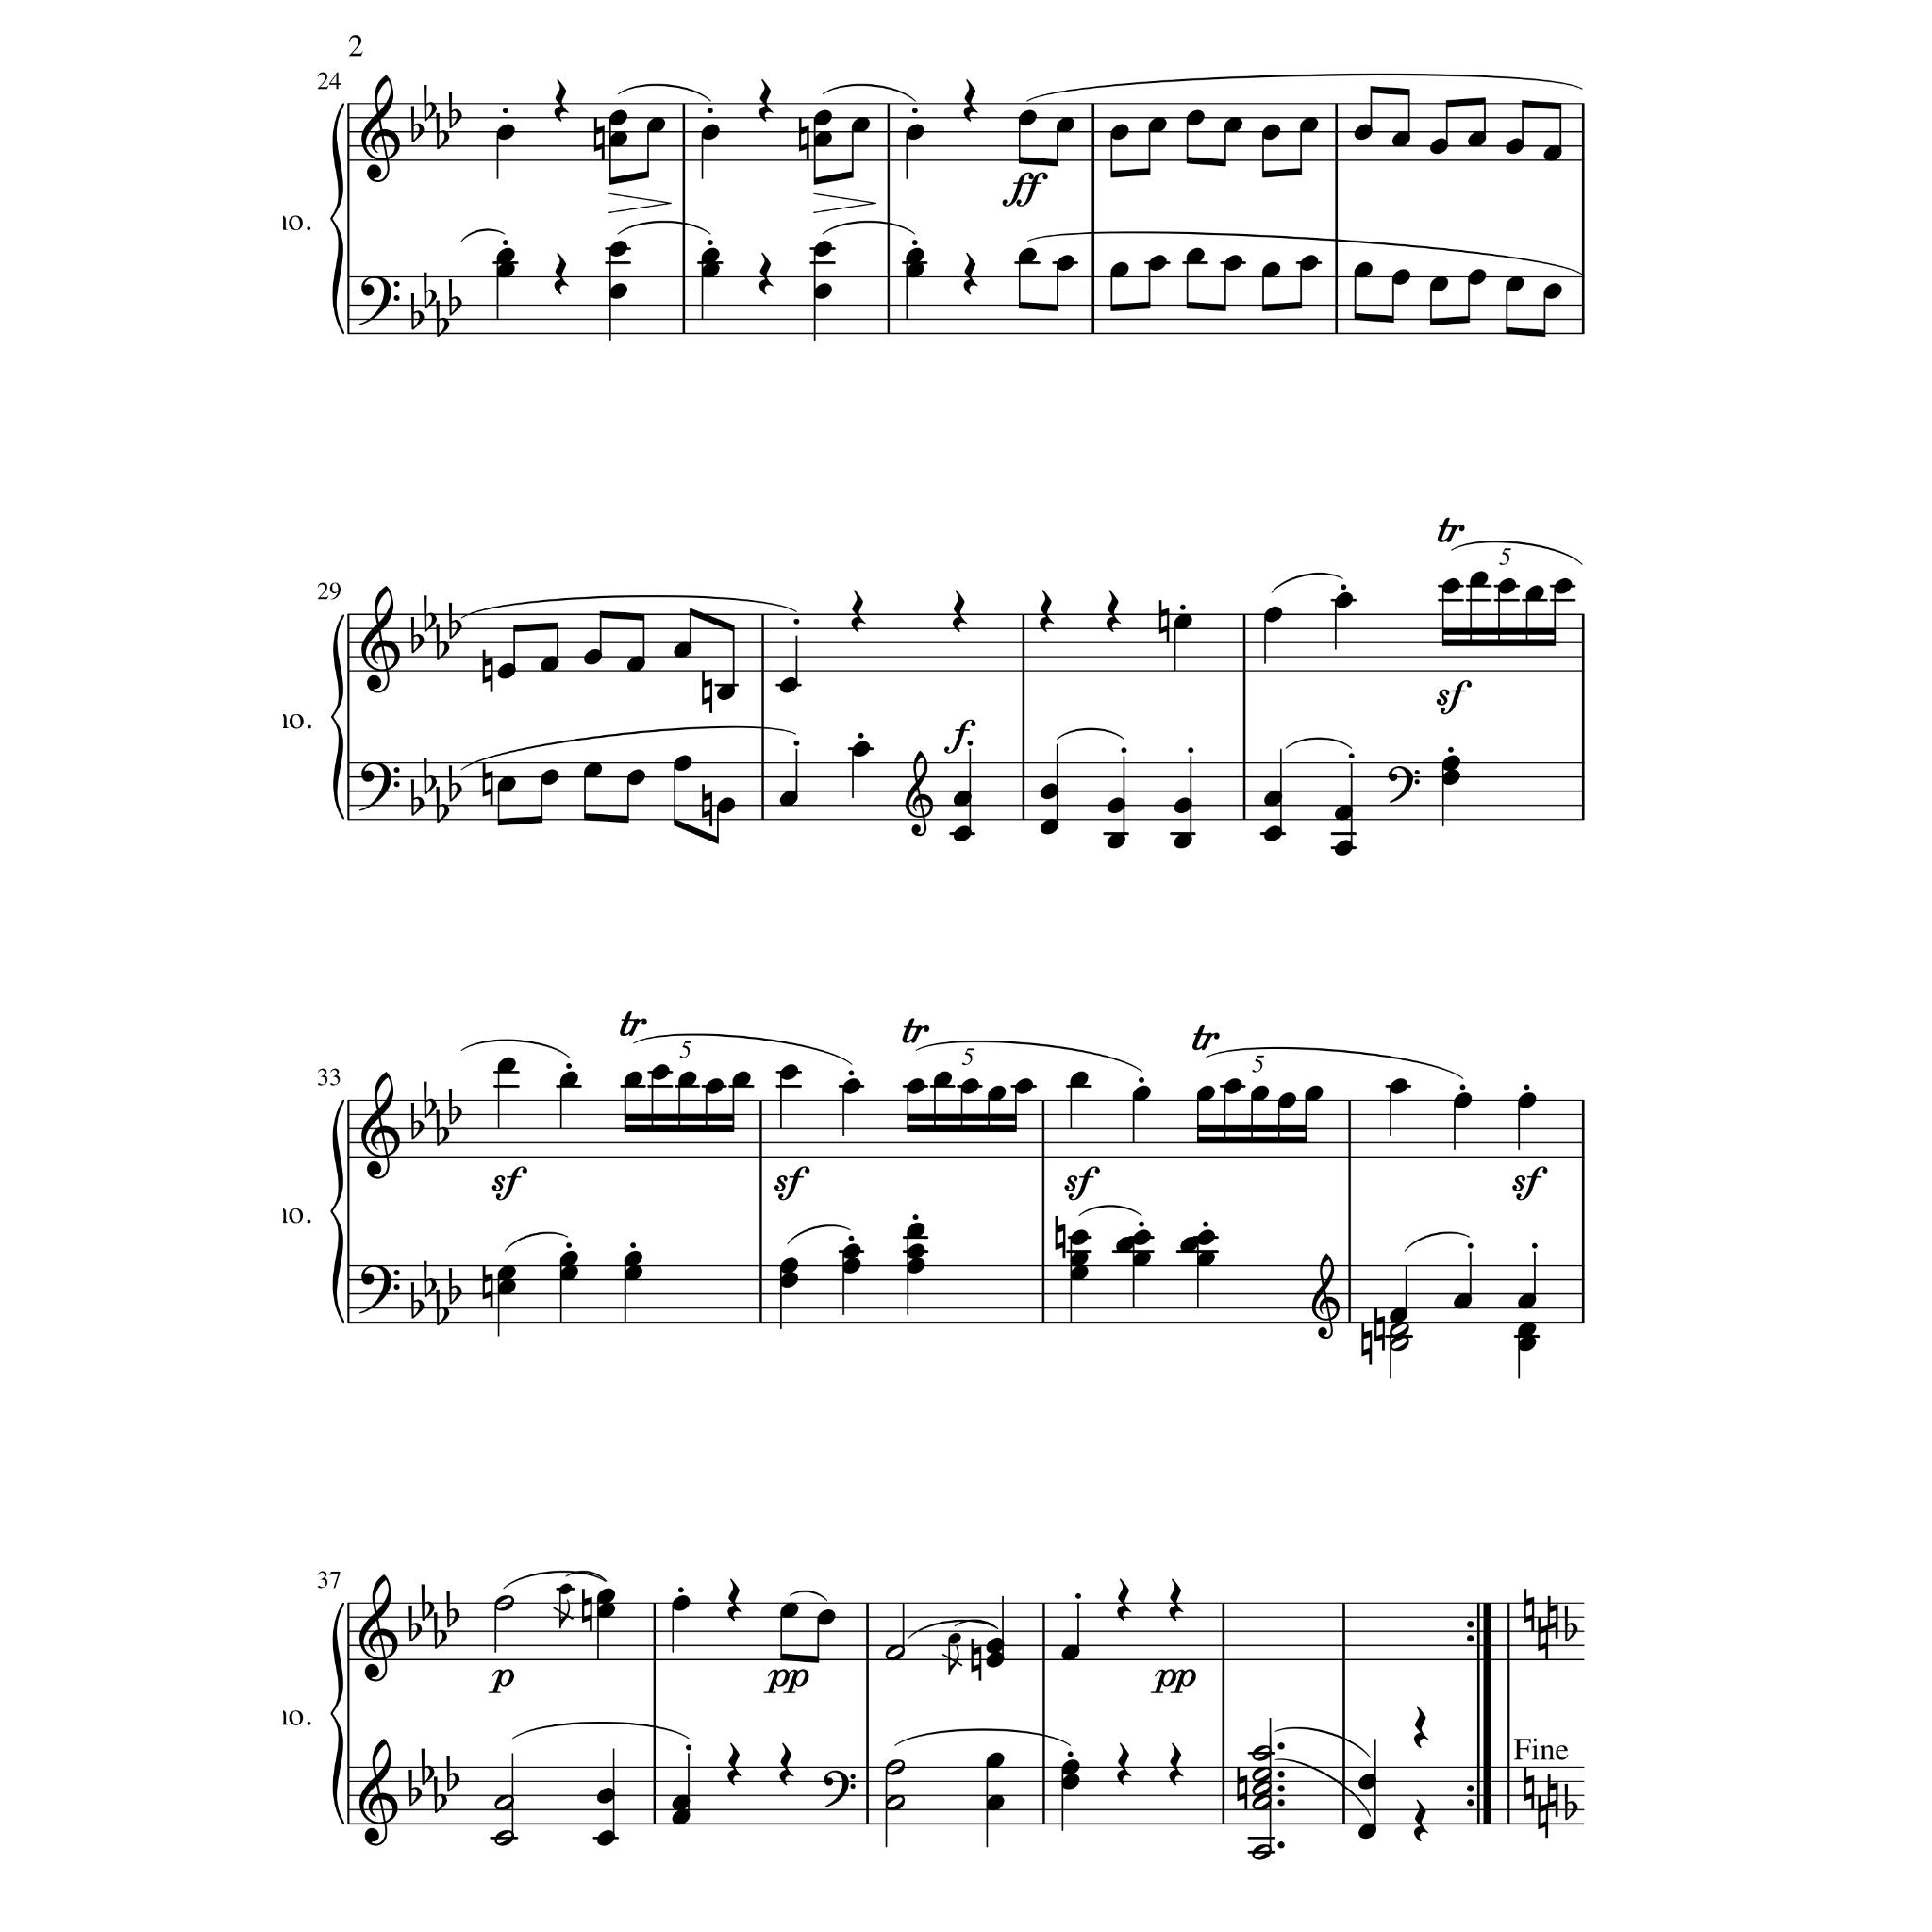brace: (329, 104, 345, 336), (329, 1099, 345, 1323), (329, 1603, 345, 1826), (331, 614, 345, 821)
fClef: (359, 276, 400, 326), (359, 763, 400, 812), (359, 1265, 400, 1315)
flag8thDown: (552, 1599, 575, 1637), (941, 1645, 962, 1684)
gClef: (359, 1737, 398, 1847), (361, 586, 400, 694), (361, 1072, 400, 1180), (359, 1575, 398, 1683), (361, 76, 400, 182)
noteheadBlack: (1069, 1228, 1090, 1247), (1196, 1228, 1215, 1247), (1132, 1228, 1152, 1247), (985, 1637, 1005, 1656), (1109, 262, 1131, 280), (1109, 124, 1131, 142), (1054, 255, 1076, 272), (1054, 117, 1076, 134), (812, 241, 833, 258), (812, 283, 833, 301), (812, 110, 833, 127), (812, 131, 833, 149), (1039, 817, 1060, 835), (1523, 584, 1545, 602), (1440, 755, 1461, 773), (1440, 768, 1461, 786), (672, 755, 694, 773), (1069, 1251, 1090, 1269), (1069, 1265, 1090, 1283), (1069, 1070, 1090, 1088), (731, 1070, 752, 1088), (840, 1077, 862, 1095), (671, 1794, 692, 1812), (671, 1808, 692, 1826), (1299, 255, 1318, 272), (1299, 117, 1318, 134), (1261, 262, 1281, 280), (1261, 124, 1281, 142), (1353, 262, 1373, 280), (1353, 124, 1373, 142), (1148, 255, 1168, 272), (1148, 117, 1168, 134), (1223, 255, 1242, 272), (1223, 117, 1242, 134), (1185, 248, 1205, 265), (1185, 110, 1205, 127), (1543, 283, 1562, 301), (1543, 145, 1562, 163), (1430, 276, 1449, 294), (1430, 138, 1449, 156), (1391, 269, 1410, 287), (1391, 131, 1410, 149), (1504, 276, 1523, 294), (1504, 138, 1523, 156), (1467, 269, 1486, 287), (1467, 131, 1486, 149), (701, 248, 720, 265), (701, 262, 720, 280), (701, 124, 720, 142), (646, 117, 665, 134), (609, 241, 628, 258), (609, 283, 628, 301), (609, 110, 628, 127), (609, 131, 628, 149), (495, 248, 515, 265), (495, 262, 515, 280), (495, 124, 515, 142), (1017, 248, 1037, 265), (1017, 110, 1037, 127), (851, 117, 870, 134), (906, 248, 925, 265), (906, 262, 925, 280), (906, 124, 925, 142), (1334, 805, 1353, 823), (1468, 571, 1488, 589), (540, 768, 559, 786), (626, 768, 646, 786), (1249, 1085, 1269, 1102), (1223, 1077, 1242, 1095), (1178, 1237, 1198, 1254), (1196, 1251, 1215, 1269), (1389, 1306, 1408, 1323), (1389, 1077, 1408, 1095), (1304, 1085, 1323, 1102), (1196, 1085, 1215, 1102), (1277, 1092, 1297, 1109), (1116, 1237, 1136, 1254), (1132, 1251, 1152, 1269), (1132, 1085, 1152, 1102), (1516, 1320, 1536, 1338), (1516, 1336, 1536, 1353), (1516, 1292, 1536, 1309), (1453, 1292, 1472, 1309), (1516, 1092, 1536, 1109), (1453, 1092, 1472, 1109), (651, 1063, 671, 1081), (623, 1251, 642, 1269), (623, 1265, 642, 1283), (623, 1070, 642, 1088), (778, 1063, 798, 1081), (704, 1077, 724, 1095), (678, 1070, 697, 1088), (559, 1251, 579, 1269), (559, 1265, 579, 1283), (559, 1070, 579, 1088), (497, 1265, 517, 1283), (497, 1279, 517, 1297), (497, 1056, 517, 1074), (906, 1221, 925, 1238), (906, 1077, 925, 1095), (987, 1085, 1007, 1102), (961, 1077, 980, 1095), (932, 1070, 952, 1088), (1014, 1077, 1033, 1095), (1062, 1759, 1081, 1776), (1357, 1773, 1376, 1790), (1357, 1822, 1376, 1840), (596, 1787, 616, 1805), (596, 1587, 616, 1605), (596, 1601, 616, 1619), (1062, 1773, 1081, 1790), (1062, 1644, 1081, 1661), (985, 1752, 1005, 1769), (985, 1794, 1005, 1812), (985, 1651, 1005, 1668), (780, 1601, 800, 1619), (1039, 784, 1060, 800), (1440, 579, 1461, 594), (672, 642, 694, 658), (715, 798, 736, 814), (715, 685, 736, 701), (840, 1244, 862, 1260), (840, 1258, 862, 1274), (671, 1596, 692, 1612), (1263, 826, 1283, 842), (1263, 607, 1283, 623), (1173, 798, 1192, 814), (1173, 833, 1192, 849), (1263, 791, 1283, 807), (1173, 614, 1192, 630), (1106, 798, 1125, 814), (1106, 833, 1125, 849), (1334, 840, 1353, 856), (1334, 593, 1353, 609), (1497, 579, 1516, 594), (584, 763, 603, 778), (584, 649, 603, 665), (540, 656, 559, 672), (626, 656, 646, 672), (497, 777, 517, 793), (497, 663, 517, 679), (851, 741, 870, 757), (952, 791, 971, 807), (952, 826, 971, 842), (778, 678, 798, 694), (778, 791, 798, 807), (906, 1244, 925, 1260), (906, 1258, 925, 1274), (778, 1258, 798, 1274), (778, 1272, 798, 1288), (596, 1829, 616, 1845), (816, 1610, 835, 1626), (1553, 579, 1571, 594), (557, 1583, 571, 1596), (948, 1633, 962, 1645)
noteheadHalf: (1389, 1320, 1410, 1338), (1389, 1336, 1410, 1353), (1251, 1766, 1272, 1783), (1251, 1780, 1272, 1798), (1251, 1794, 1272, 1812), (494, 1794, 515, 1812), (885, 1644, 904, 1661), (885, 1794, 904, 1812), (885, 1759, 904, 1776), (1251, 1744, 1272, 1760), (1251, 1844, 1272, 1859), (494, 1829, 515, 1845), (494, 1596, 515, 1612)
restQuarter: (1412, 1799, 1430, 1844), (1412, 1706, 1430, 1750), (554, 80, 570, 124), (757, 80, 773, 124), (962, 80, 978, 124), (1039, 589, 1054, 633), (1106, 589, 1122, 633), (851, 589, 867, 633), (952, 589, 968, 633), (1116, 1743, 1132, 1787), (1116, 1578, 1132, 1622), (1168, 1743, 1184, 1787), (1168, 1578, 1184, 1622), (727, 1578, 743, 1622), (727, 1743, 743, 1787), (778, 1743, 794, 1787), (757, 253, 773, 295), (554, 253, 570, 295), (962, 253, 978, 295)
